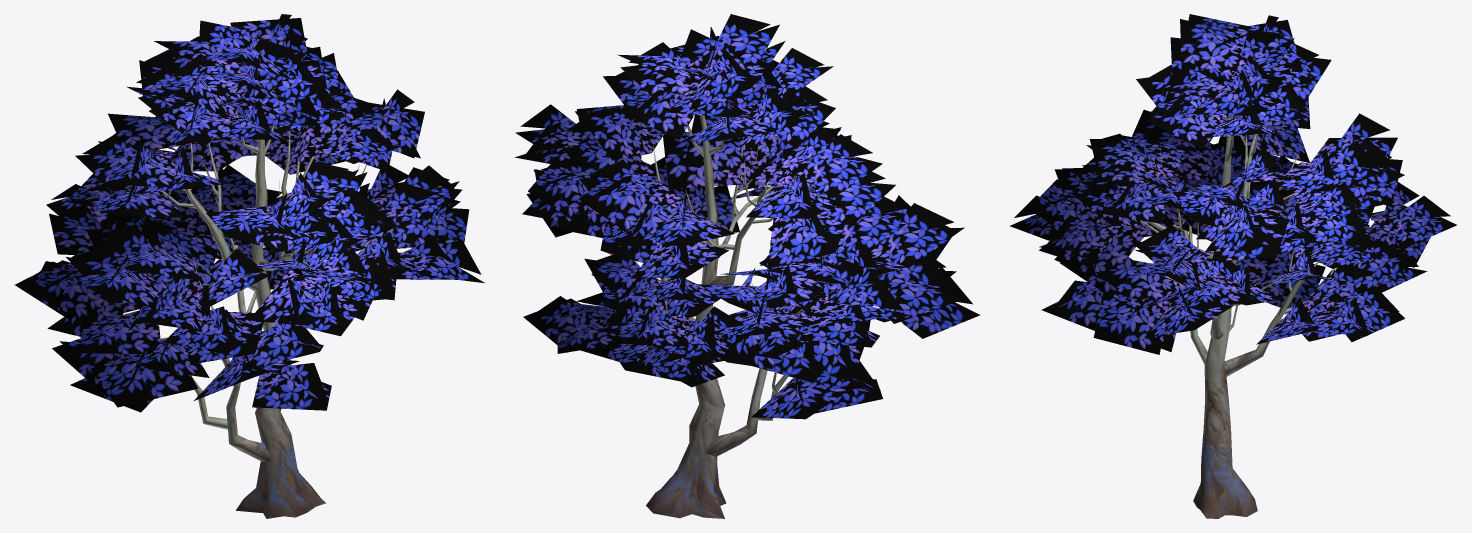
The model's file is DqPlant.fbx.
The picture shows the model from 3 angles, left to right: view 1: azimuth 30°, elevation 25°; view 2: azimuth 150°, elevation 25°; view 3: azimuth 270°, elevation 25°; orthographic projection. The views are drawn at different scales.
Visible parts, largest first — view 1: Area_Dq_Tree_Common_Ls_06_01_Leaf_Lod1, Area_Dq_Tree_Common_Ls_06_01_Bark_Lod1; view 2: Area_Dq_Tree_Common_Ls_06_01_Leaf_Lod1, Area_Dq_Tree_Common_Ls_06_01_Bark_Lod1; view 3: Area_Dq_Tree_Common_Ls_06_01_Leaf_Lod1, Area_Dq_Tree_Common_Ls_06_01_Bark_Lod1.
Boxes of the visible parts, <box> form: Area_Dq_Tree_Common_Ls_06_01_Leaf_Lod1: <box>15,14,484,412</box>; Area_Dq_Tree_Common_Ls_06_01_Bark_Lod1: <box>160,111,369,518</box>; Area_Dq_Tree_Common_Ls_06_01_Leaf_Lod1: <box>514,14,980,419</box>; Area_Dq_Tree_Common_Ls_06_01_Bark_Lod1: <box>600,103,817,518</box>; Area_Dq_Tree_Common_Ls_06_01_Leaf_Lod1: <box>1010,14,1456,354</box>; Area_Dq_Tree_Common_Ls_06_01_Bark_Lod1: <box>1140,115,1335,518</box>.
Bounding box in the file's own units: 1259 × 1450 × 1264.
2 materials, 2 textured.
